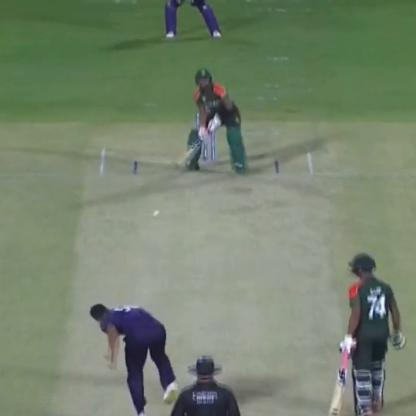ball: (144, 204, 166, 224)
bat: (324, 340, 356, 416), (176, 122, 213, 168)
pitch: (61, 146, 351, 416)
